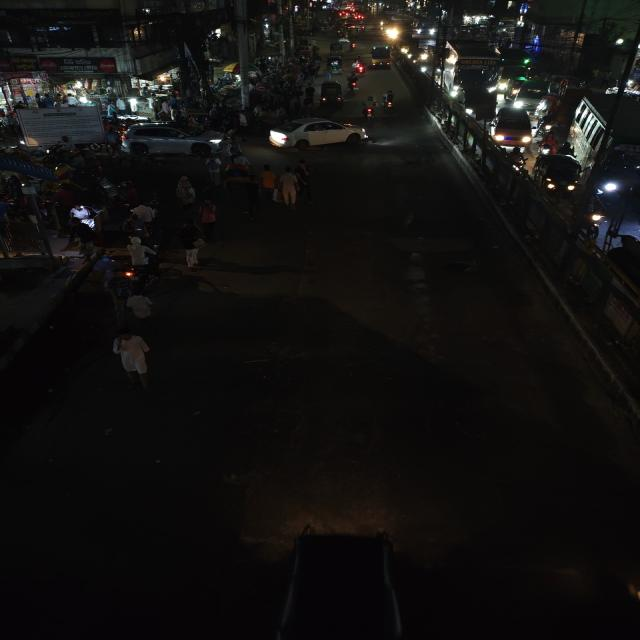bus: (569, 90, 640, 206), (444, 39, 504, 100)
car: (114, 120, 224, 158), (266, 116, 374, 150), (484, 105, 537, 149)
cng: (269, 523, 417, 640), (525, 150, 582, 196), (319, 80, 344, 106)
motorcycle: (119, 238, 164, 290), (379, 88, 398, 112), (361, 96, 378, 122), (346, 74, 362, 94), (351, 56, 367, 75), (348, 40, 359, 52)
pedestrian: (110, 326, 156, 392), (123, 292, 159, 328), (124, 203, 156, 239), (176, 233, 207, 270), (277, 165, 301, 209), (196, 199, 222, 237), (177, 220, 202, 257), (172, 174, 198, 208), (257, 163, 279, 203), (121, 213, 147, 243), (203, 155, 224, 185), (218, 134, 242, 160)
rickshaw: (319, 81, 344, 106)
truck: (370, 43, 393, 69)
